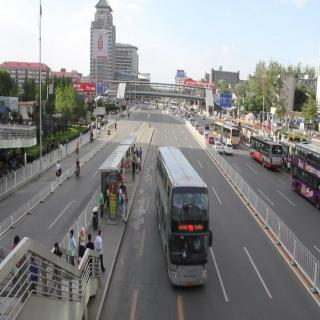BigCar: (152, 134, 216, 296), (291, 135, 320, 211), (209, 103, 244, 165), (244, 130, 284, 182)
